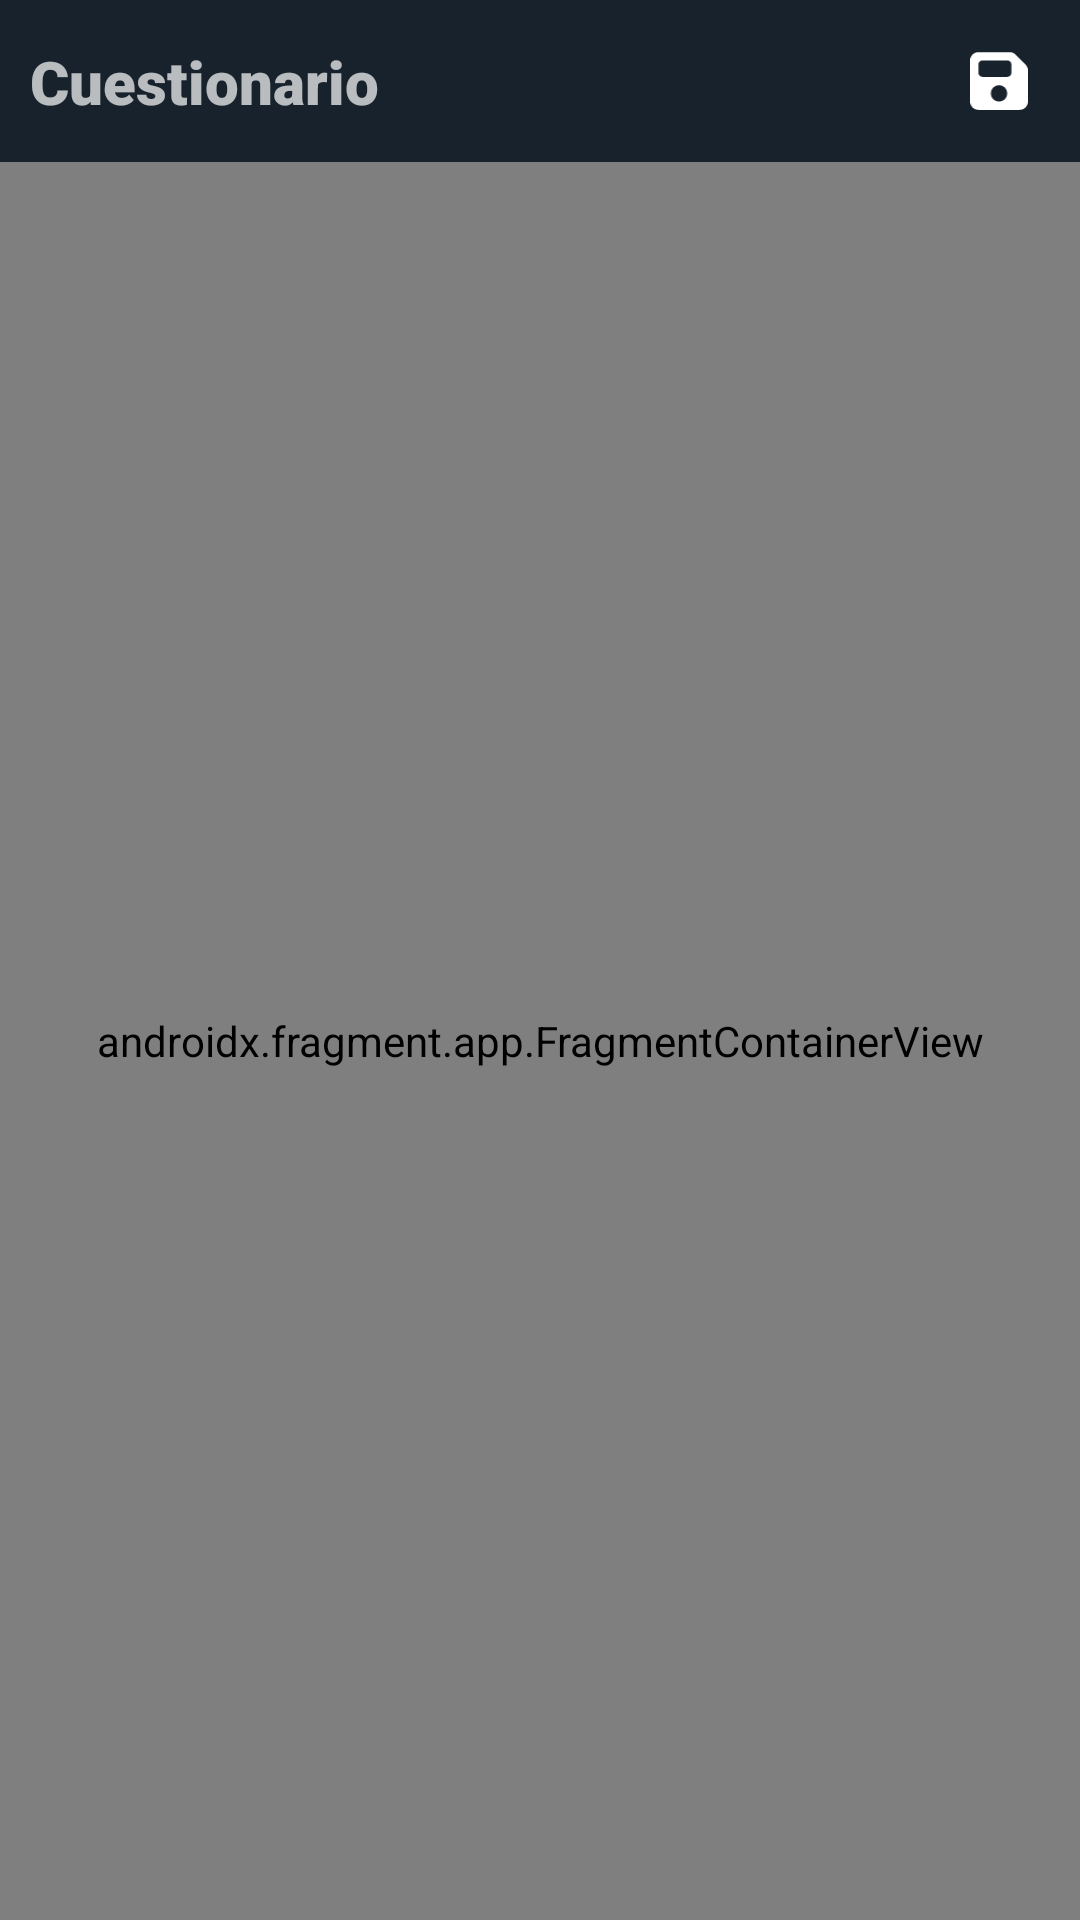

Screen size 1080px x 1920px. Icon name, then its center in pixels as (x,y):
save: (999,81)
